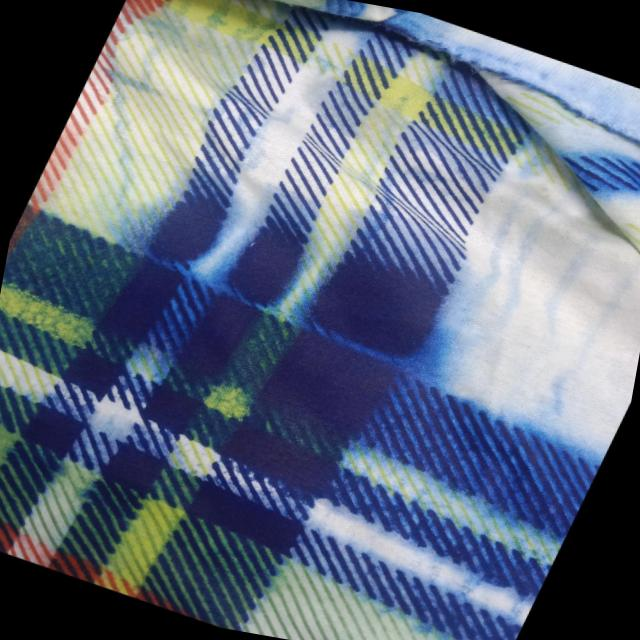baekra: (0, 104, 573, 640)
